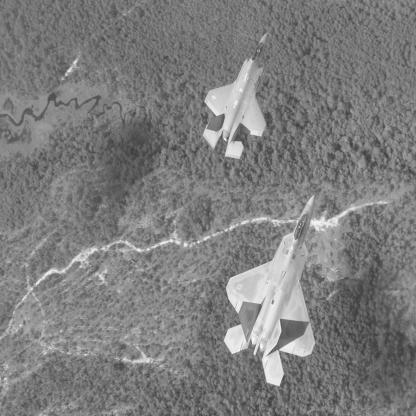F22: (225, 195, 317, 388)
F35: (204, 32, 270, 160)
